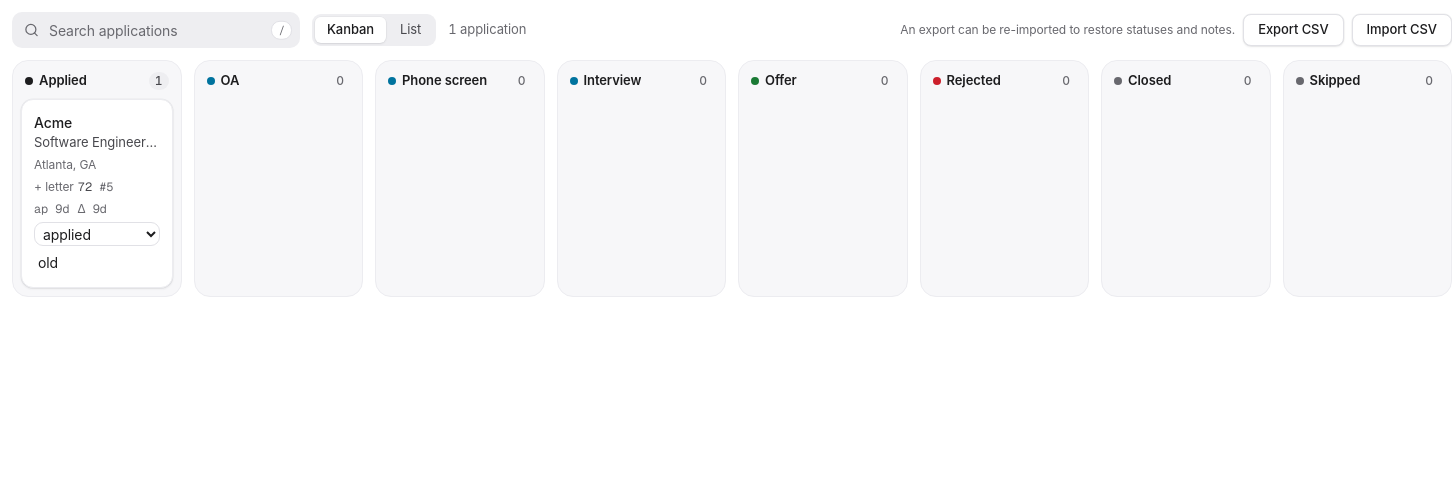
Test: failure handling › keeps typed notes when the save fails, and shows why
Click the button with aria-label "Notes for Acme" at (97, 262), box [34, 250, 160, 275]
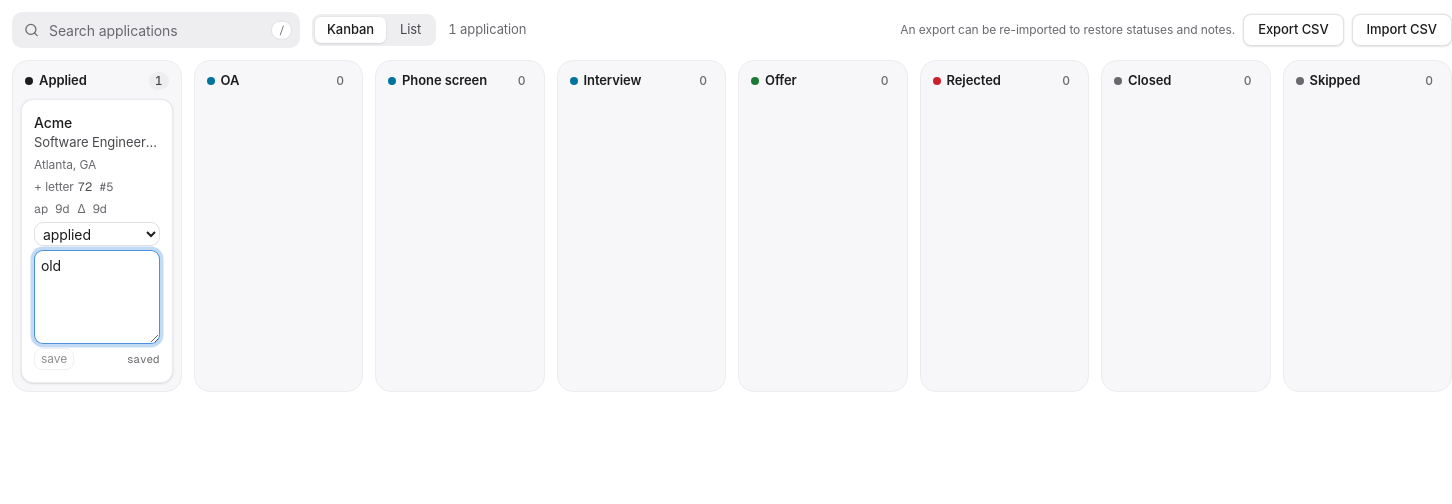
Replace the text in the text box with "recruiter: Dana, follow up Fri" at (97, 297), box [34, 250, 160, 344]
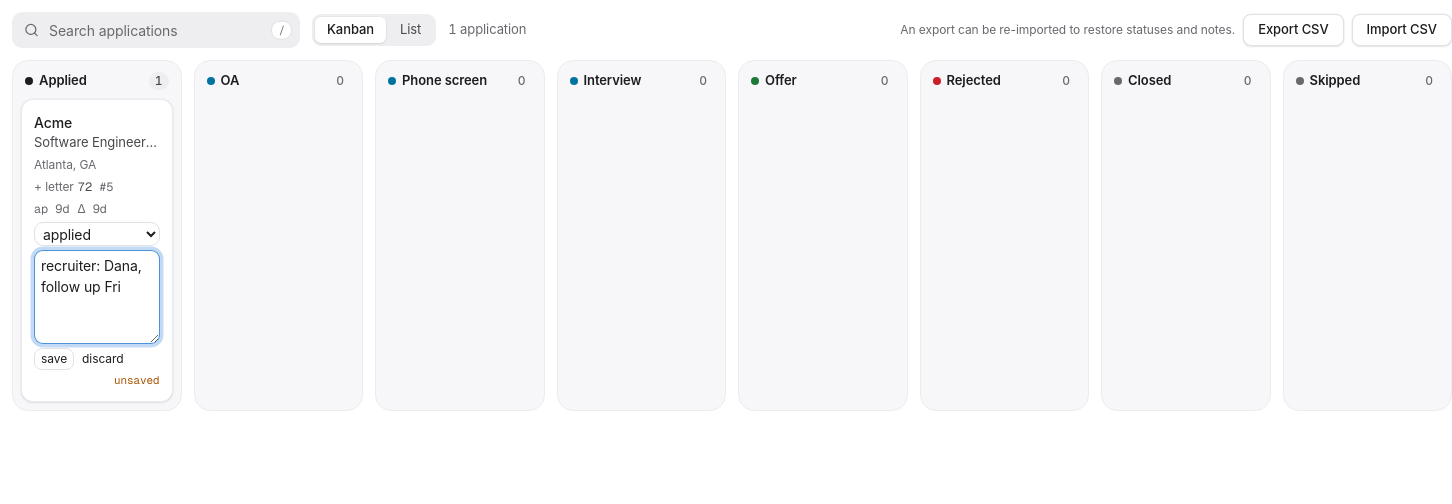
Click the button "save" at (54, 359), box [34, 348, 74, 370]
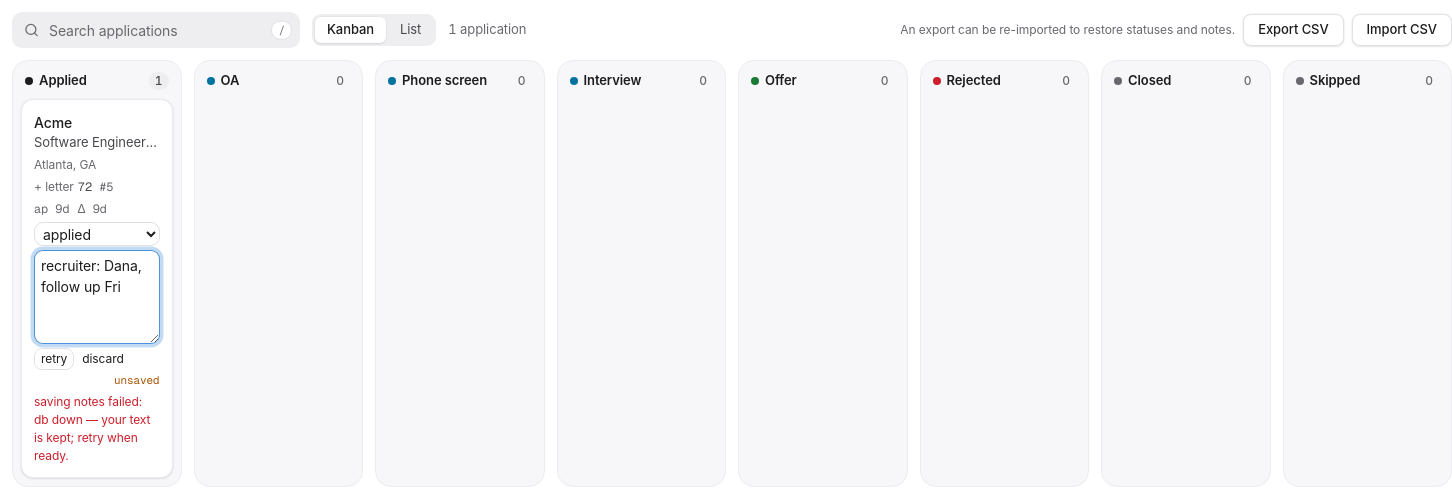
Check: the message shows "db down", box [34, 394, 142, 426]
